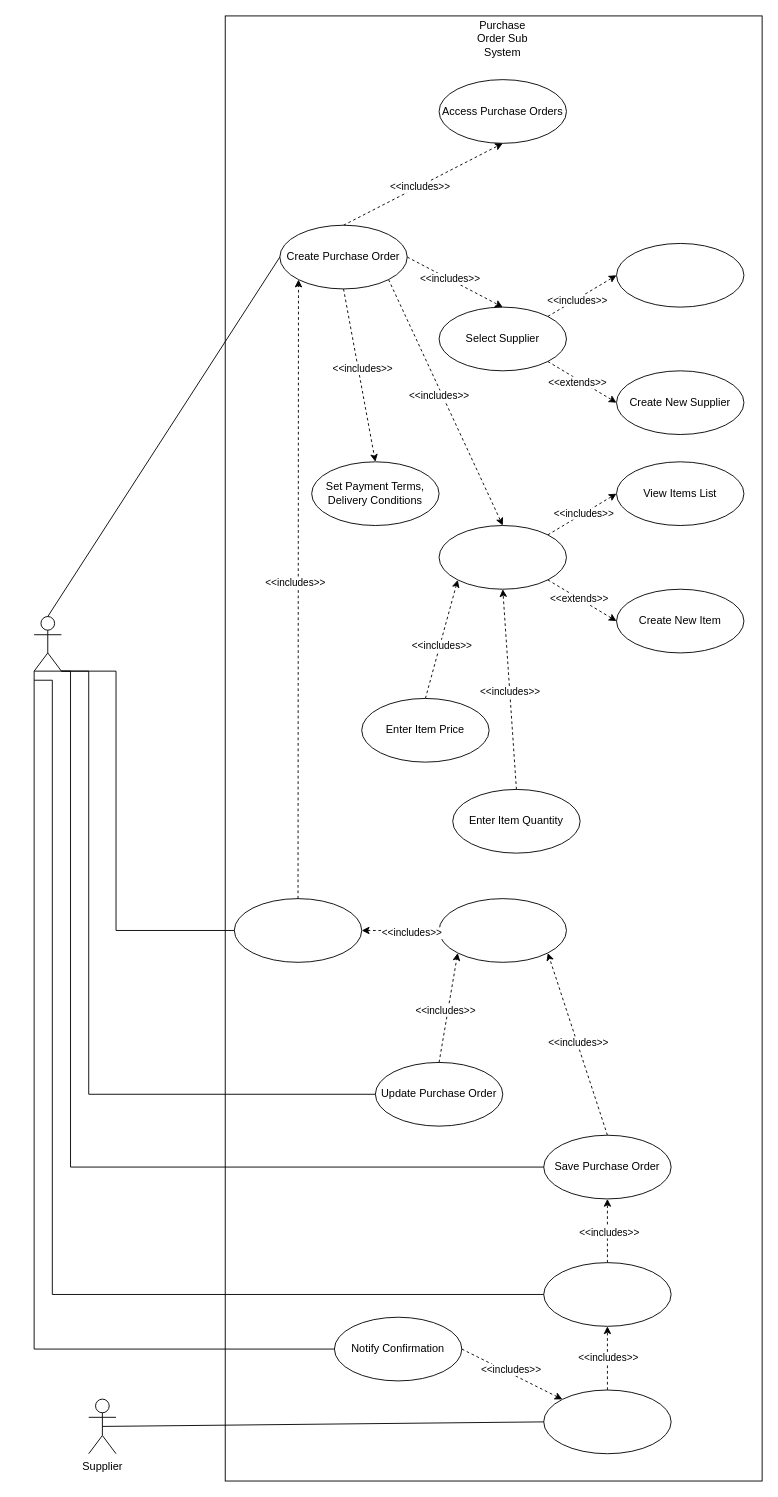
Some shapes in this 778 by 1497 pixel diagram are drawn without their labels. Each missing label, with the centre of its shape:
Display Purchase Order: point 502,930
Lab Manager: point 47,643
Purchase Order Confirmation: point 607,1421
Save as Draft: point 297,930
Select Item: point 502,557
Send Purchase Order: point 607,1294
View Suppliers List: point 680,275
